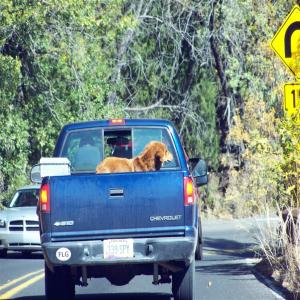Vehicle-registration-plate: (104, 239, 134, 261)
